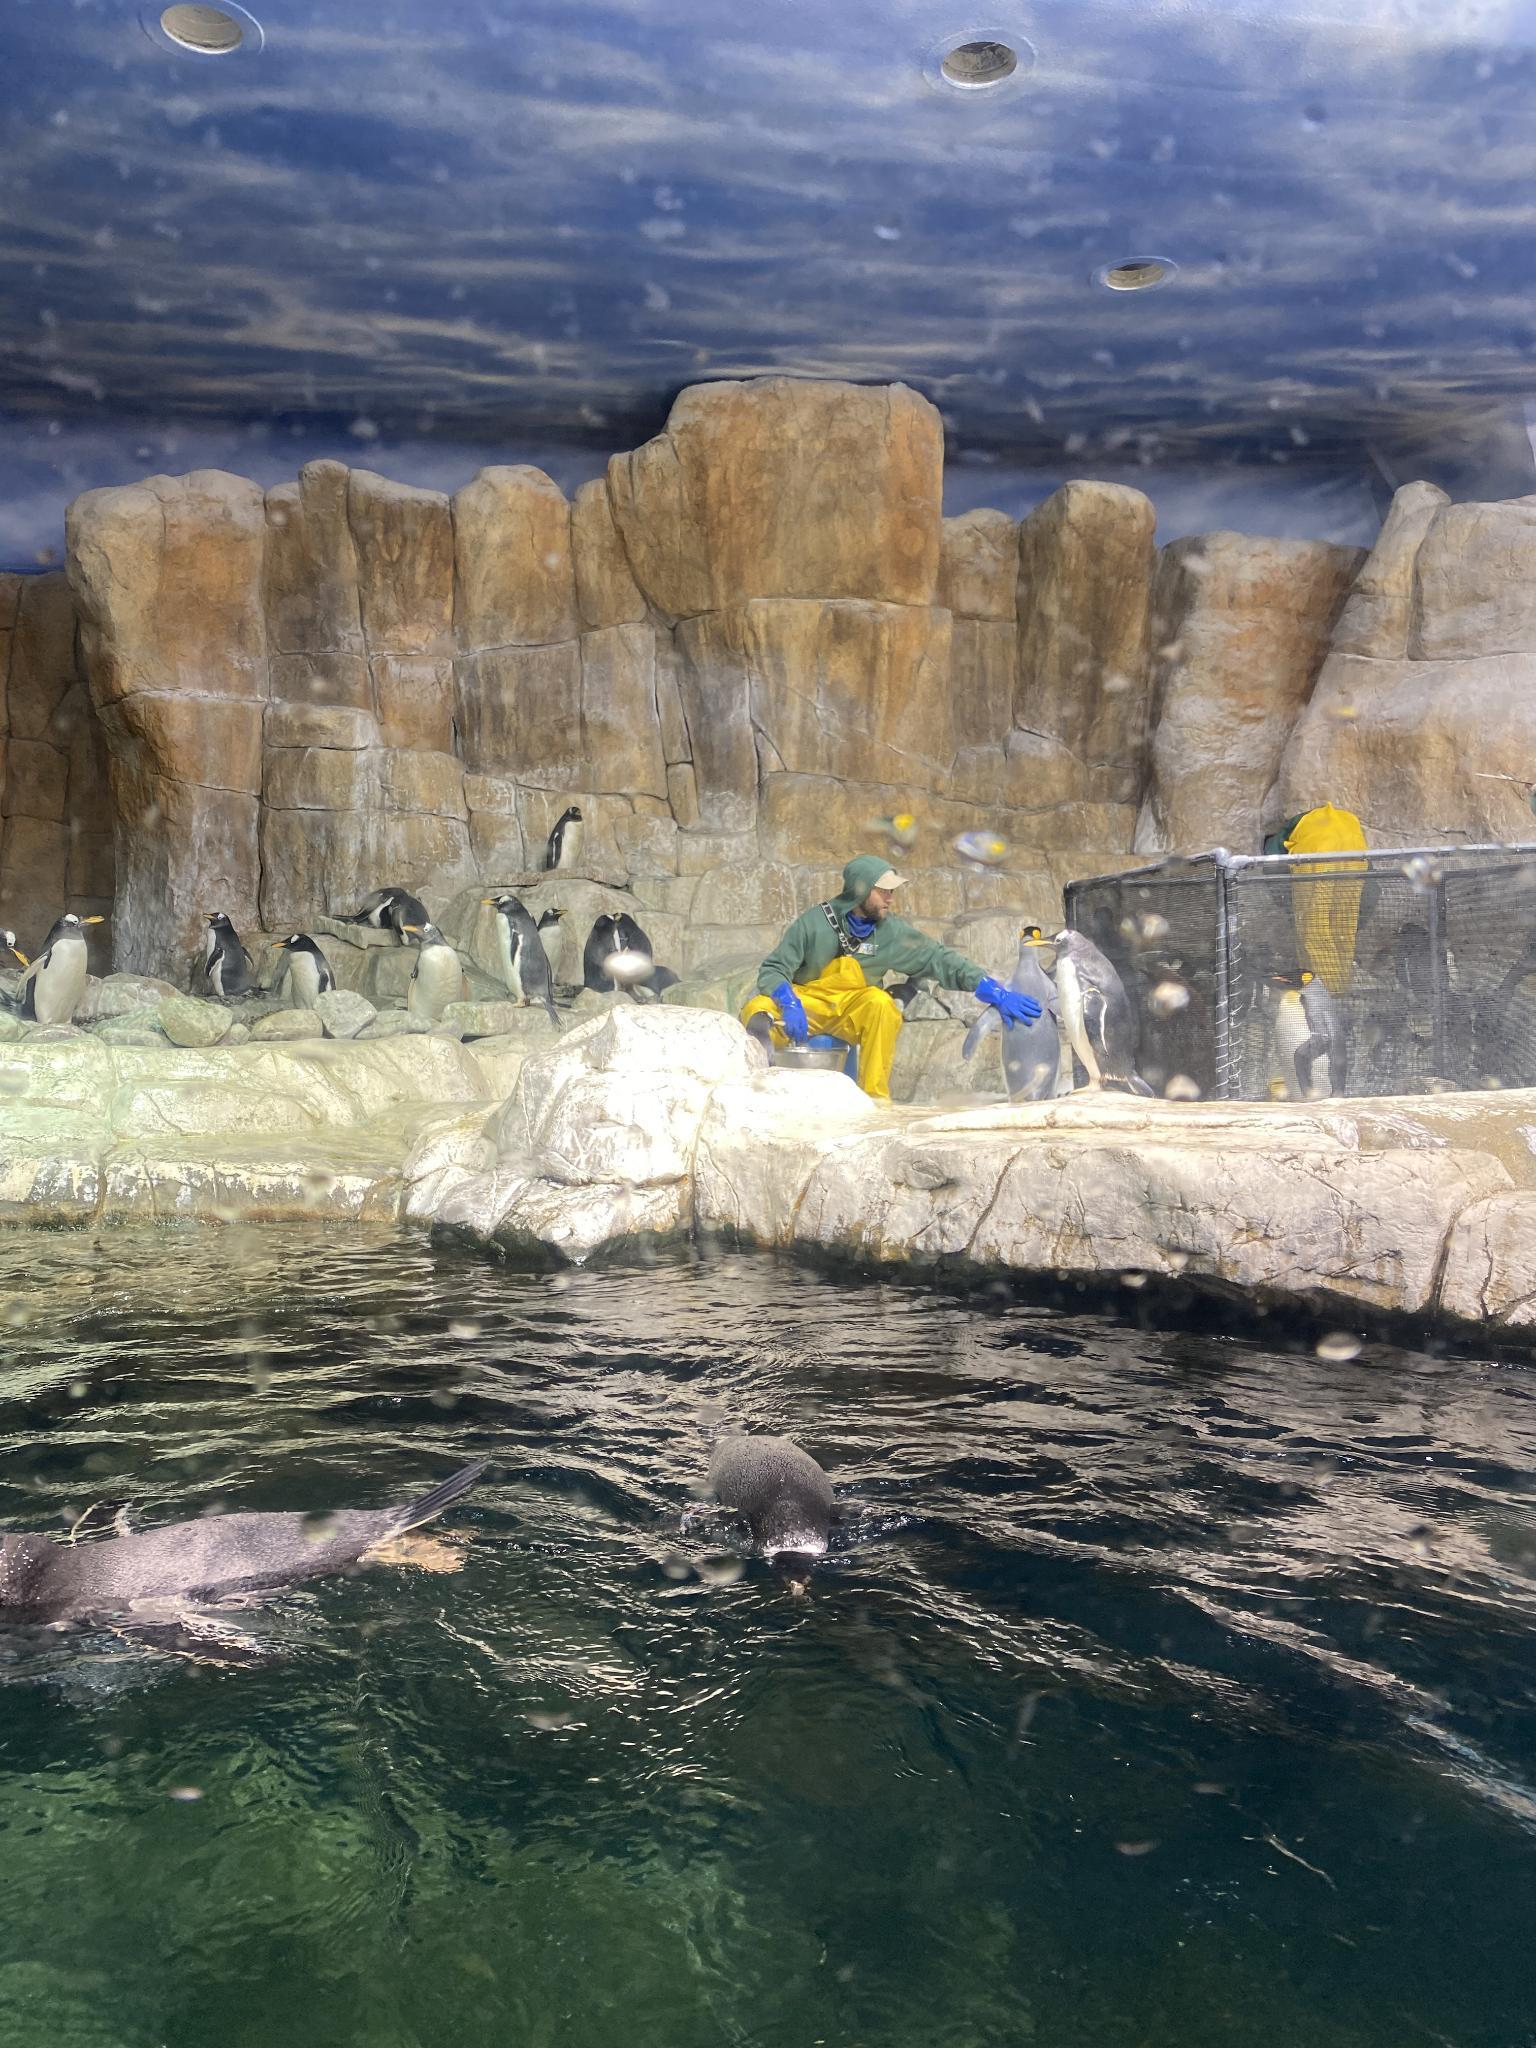penguin: (0, 1466, 495, 1664), (705, 1424, 854, 1603), (1037, 926, 1150, 1097), (963, 926, 1066, 1100), (15, 913, 110, 1034), (479, 892, 563, 1026), (1267, 966, 1350, 1097), (202, 908, 263, 998), (615, 913, 674, 1005), (1392, 921, 1454, 1008), (273, 934, 336, 1006), (337, 890, 426, 934), (586, 910, 621, 993), (539, 903, 570, 992), (547, 805, 586, 871)
